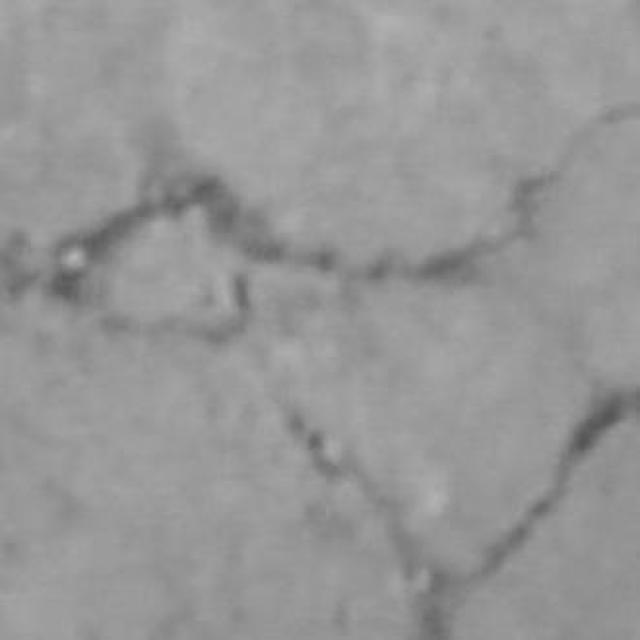crack: (417, 390, 638, 639), (282, 406, 449, 639), (70, 173, 436, 279), (470, 392, 636, 581), (52, 176, 240, 287), (367, 231, 514, 277)
